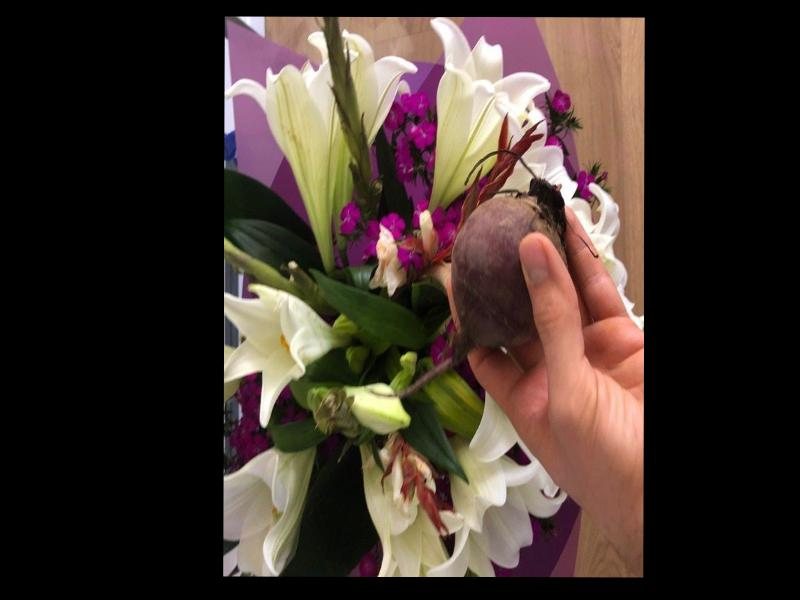Beet: (367, 149, 567, 399)
